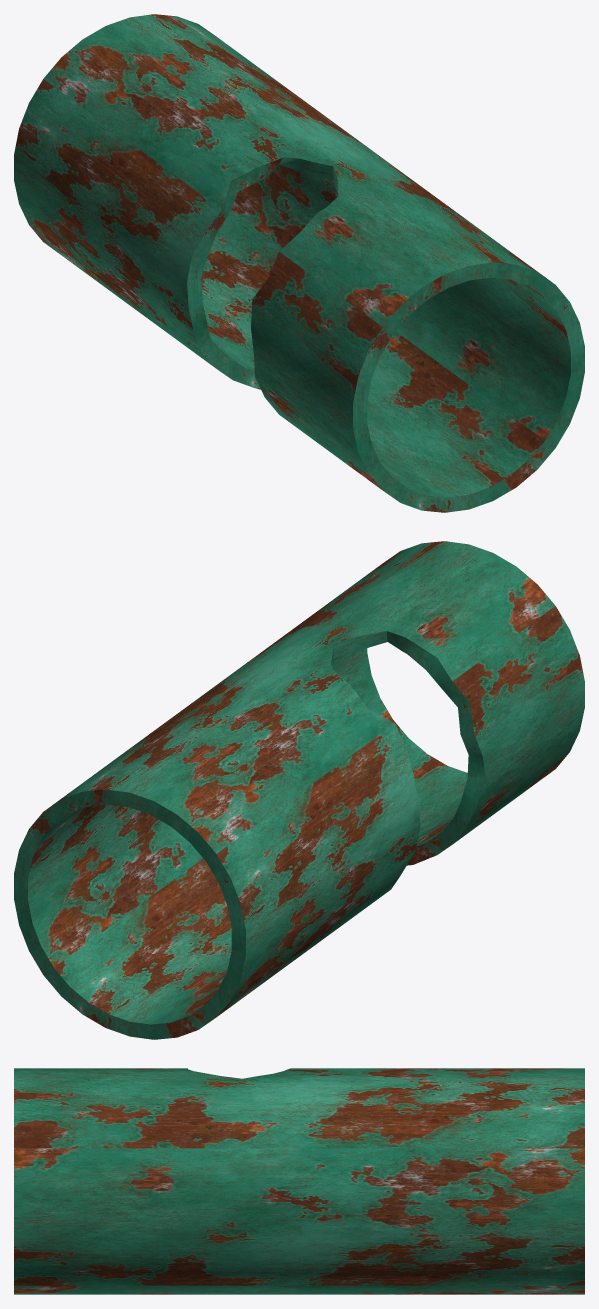
File: CEV10_2.fbx
3 views of the same model, one above another, from view 1: azimuth 30°, elevation 25°; view 2: azimuth 150°, elevation 25°; view 3: azimuth 270°, elevation 25° (orthographic). The views are drawn at different scales.
Visible parts, largest first — view 1: Cev 2; view 2: Cev 2; view 3: Cev 2.
Part boxes in pixels (x1,y1,x2,y2): Cev 2: (14, 14, 584, 512); Cev 2: (14, 541, 584, 1039); Cev 2: (14, 1068, 584, 1294).
Bounding box in the file's own units: 155 × 156 × 394.
